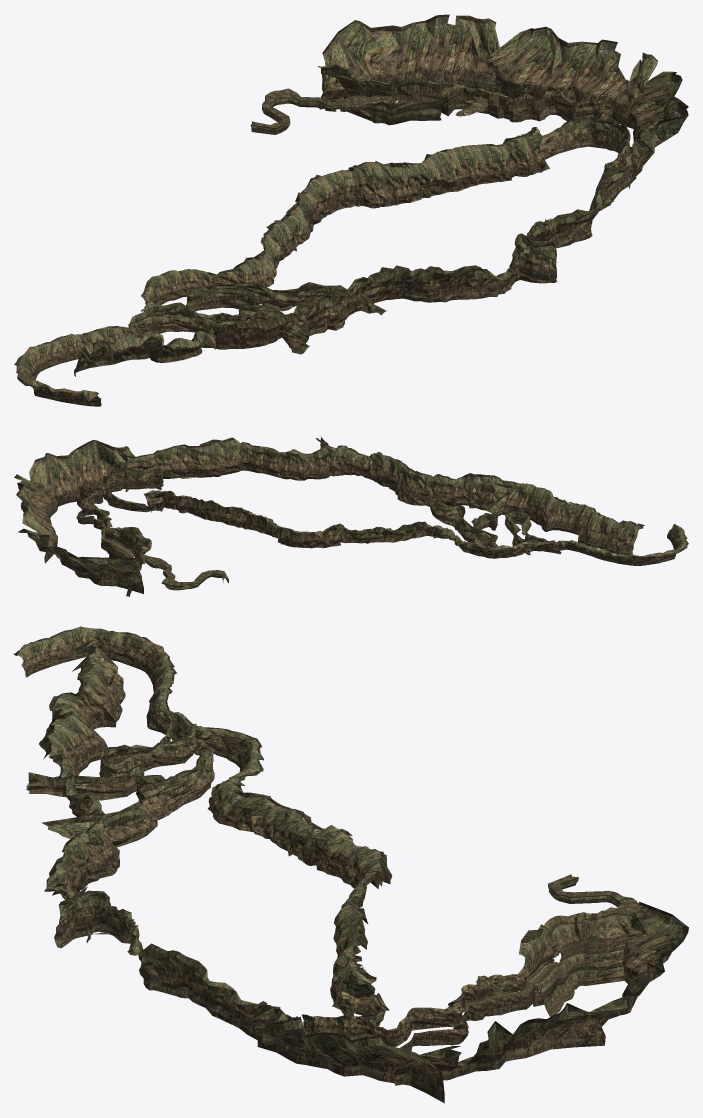
The model's file is shibi.FBX.
The picture shows the model from 3 angles, top to bottom: view 1: azimuth 30°, elevation 25°; view 2: azimuth 150°, elevation 25°; view 3: azimuth 270°, elevation 25°; orthographic projection. The views are drawn at different scales.
Parts seen in each view (by area): view 1: shibi442, shibi44, shibi672, shibi620, shibi45, shibi42, shibi694, shibi50, shibi671, shibi33, shibi441, shibi43 (+15 smaller); view 2: shibi442, shibi672, shibi694, shibi671, shibi702, shibi620, shibi44, shibi36, shibi703, shibi701, shibi636, shibi697 (+27 smaller); view 3: shibi442, shibi441, shibi36, shibi672, shibi39, shibi694, shibi37, shibi47, shibi05, shibi38, shibi671, shibi693 (+18 smaller).
Part boxes in pixels (x1=…): shibi442: x1=319, y1=14, x2=688, y2=173; shibi44: x1=422, y1=146, x2=476, y2=197; shibi672: x1=294, y1=279, x2=386, y2=336; shibi620: x1=250, y1=88, x2=390, y2=130; shibi45: x1=462, y1=144, x2=512, y2=185; shibi42: x1=355, y1=161, x2=409, y2=207; shibi694: x1=231, y1=313, x2=298, y2=348; shibi50: x1=550, y1=116, x2=598, y2=153; shibi671: x1=368, y1=265, x2=414, y2=313; shibi33: x1=152, y1=269, x2=206, y2=303; shibi441: x1=317, y1=63, x2=375, y2=121; shibi43: x1=391, y1=162, x2=429, y2=202; shibi442: x1=14, y1=440, x2=143, y2=596; shibi672: x1=443, y1=473, x2=506, y2=510; shibi694: x1=502, y1=481, x2=548, y2=522; shibi671: x1=397, y1=468, x2=429, y2=506; shibi702: x1=591, y1=516, x2=625, y2=554; shibi620: x1=144, y1=555, x2=228, y2=587; shibi44: x1=203, y1=500, x2=245, y2=527; shibi36: x1=382, y1=521, x2=426, y2=542; shibi703: x1=616, y1=521, x2=644, y2=555; shibi701: x1=578, y1=512, x2=611, y2=545; shibi636: x1=164, y1=444, x2=185, y2=478; shibi697: x1=552, y1=502, x2=582, y2=532; shibi442: x1=250, y1=901, x2=688, y2=1103; shibi441: x1=569, y1=907, x2=632, y2=985; shibi36: x1=217, y1=792, x2=291, y2=844; shibi672: x1=41, y1=754, x2=93, y2=838; shibi39: x1=324, y1=831, x2=386, y2=888; shibi694: x1=39, y1=720, x2=86, y2=793; shibi37: x1=271, y1=809, x2=322, y2=858; shibi47: x1=338, y1=970, x2=376, y2=1016; shibi05: x1=103, y1=631, x2=153, y2=669; shibi38: x1=301, y1=825, x2=346, y2=871; shibi671: x1=85, y1=809, x2=119, y2=876; shibi693: x1=61, y1=775, x2=128, y2=800.
Bounding box in the file's own units: 291 × 23.93 × 184.
